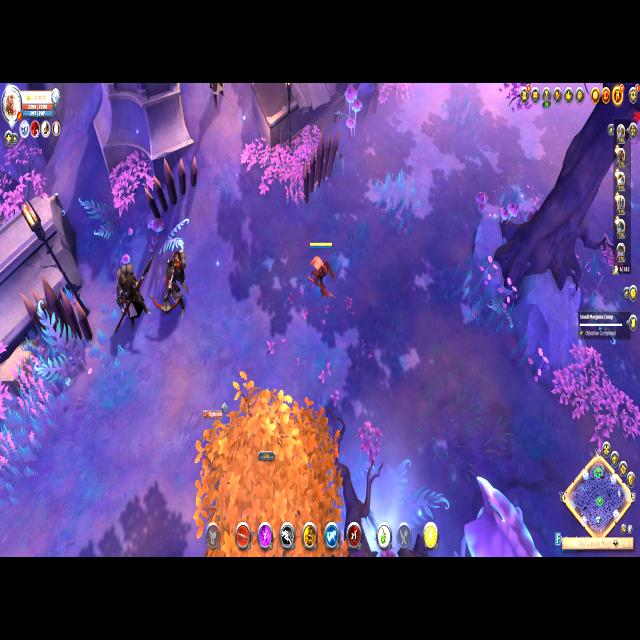ore: (109, 247, 152, 335), (152, 244, 195, 318), (208, 84, 230, 110)
red: (304, 233, 342, 306)
wisp caged: (188, 366, 345, 557)
